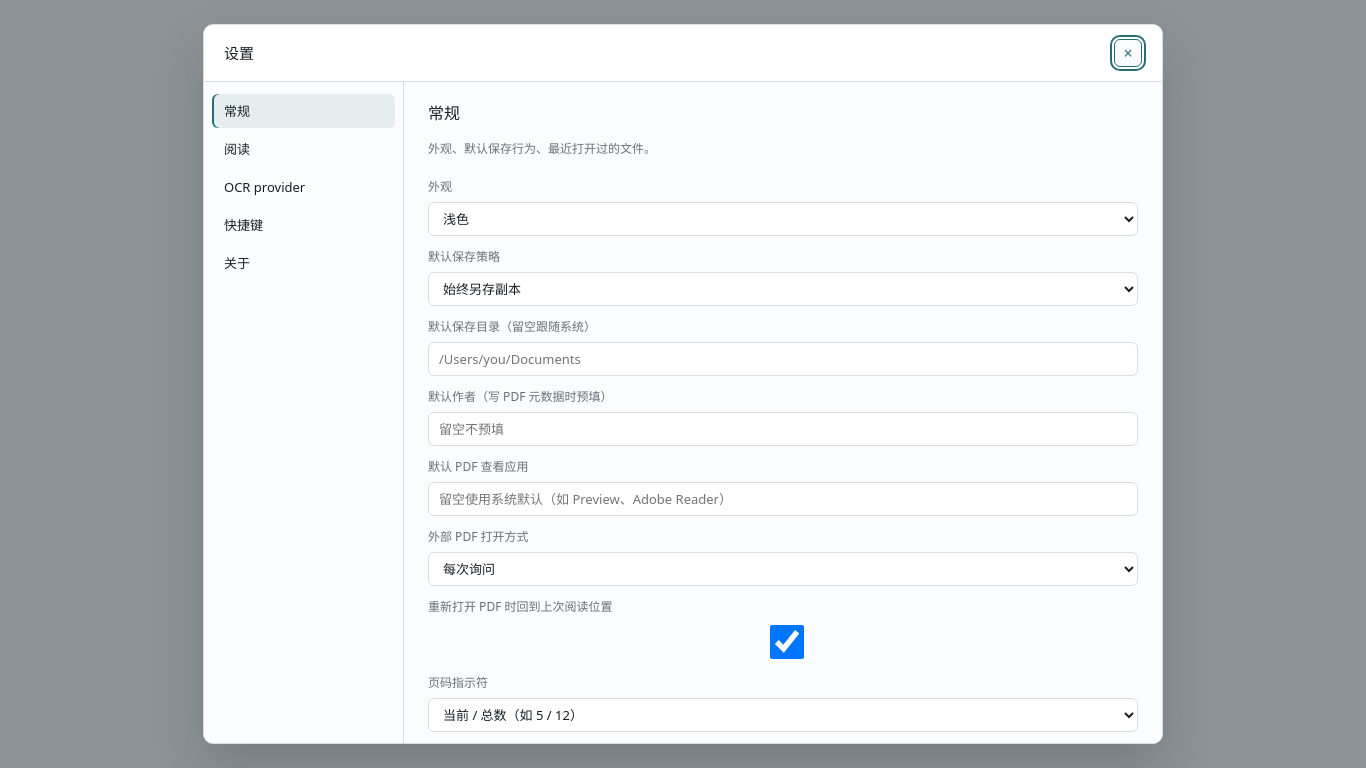
Test case: SettingsPanel › lazy section shows Suspense fallback then loads content
This screenshot has width=1366, height=768.
Click the tab "快捷键".
click(304, 225)  # box [212,208,395,242]
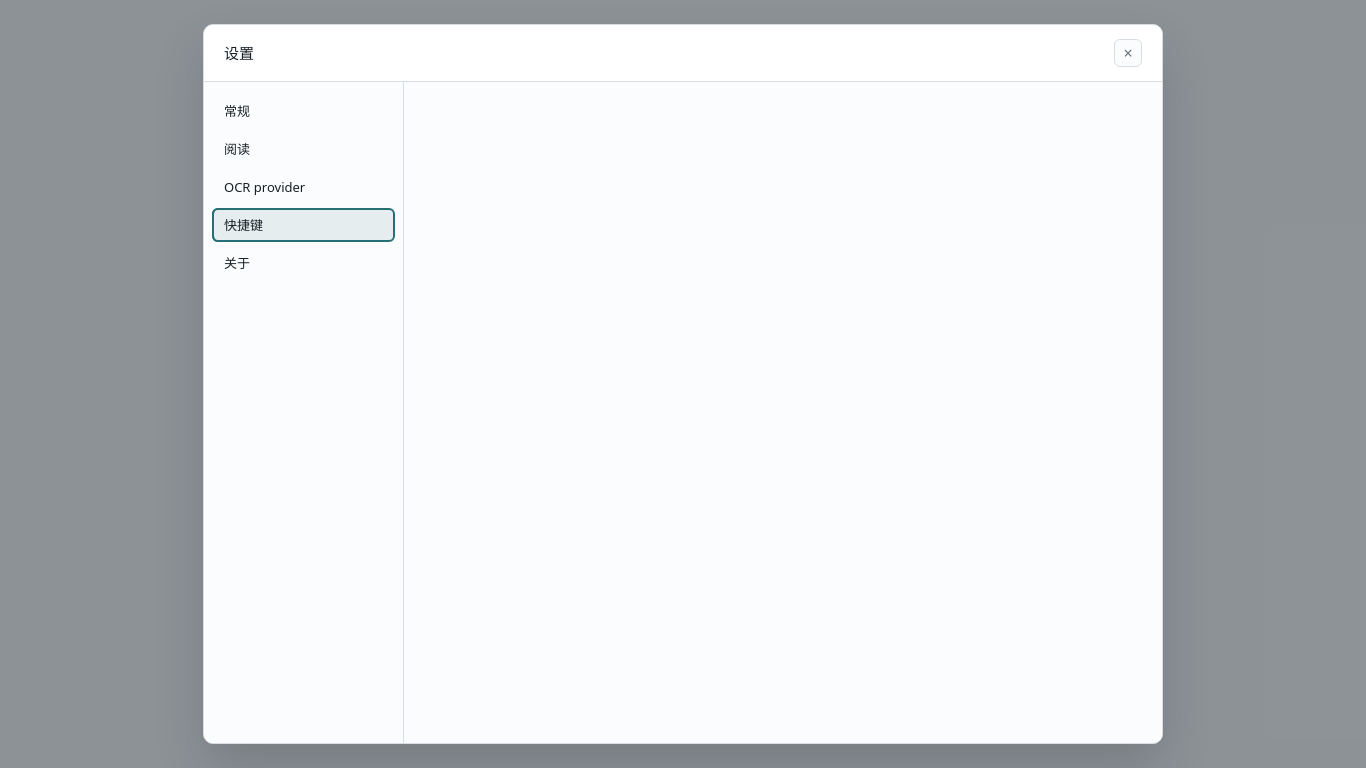
Expected: the panel named "快捷键" is shown, [404,82,1162,743]
